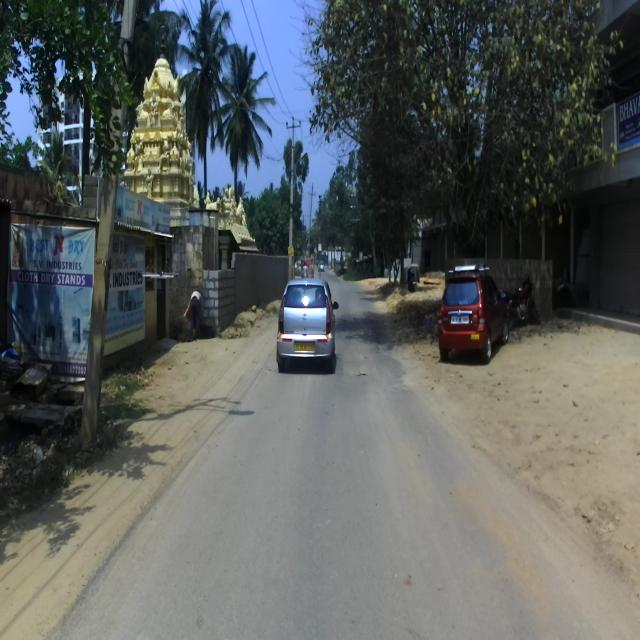car ahead at: (439, 262, 507, 361), (276, 281, 339, 373)
electric pole ahead at: (81, 0, 135, 443)
